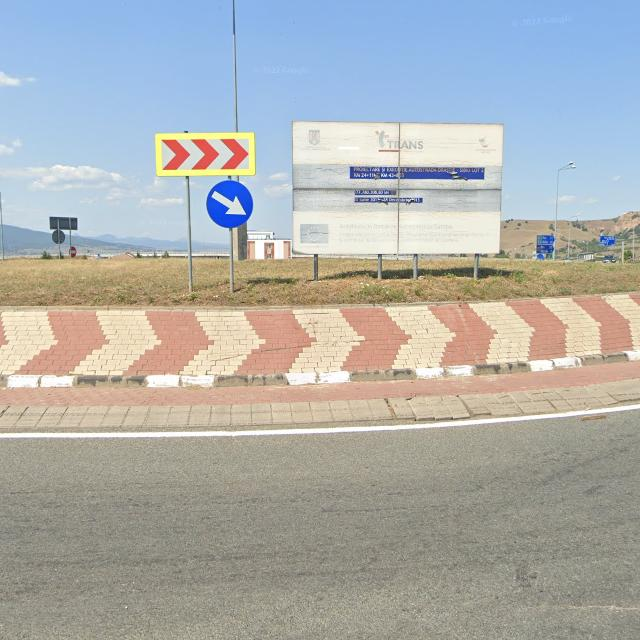mand_pass_right: (206, 179, 253, 229)
